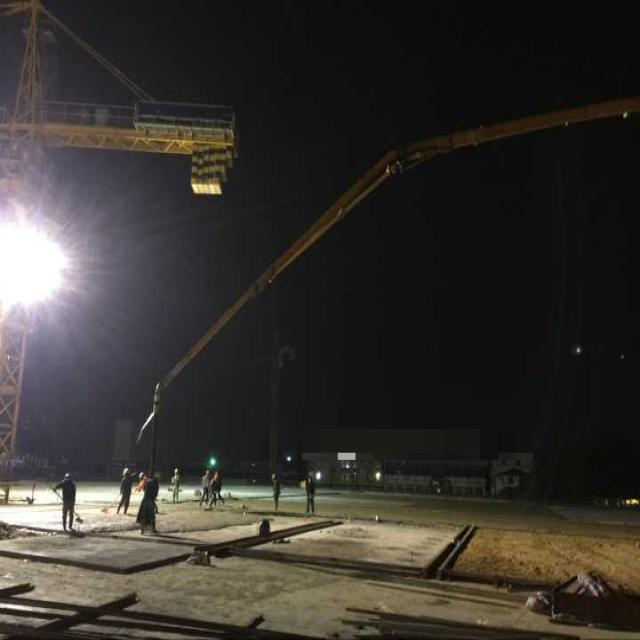crane: (0, 0, 242, 481)
truck: (148, 95, 639, 476)
